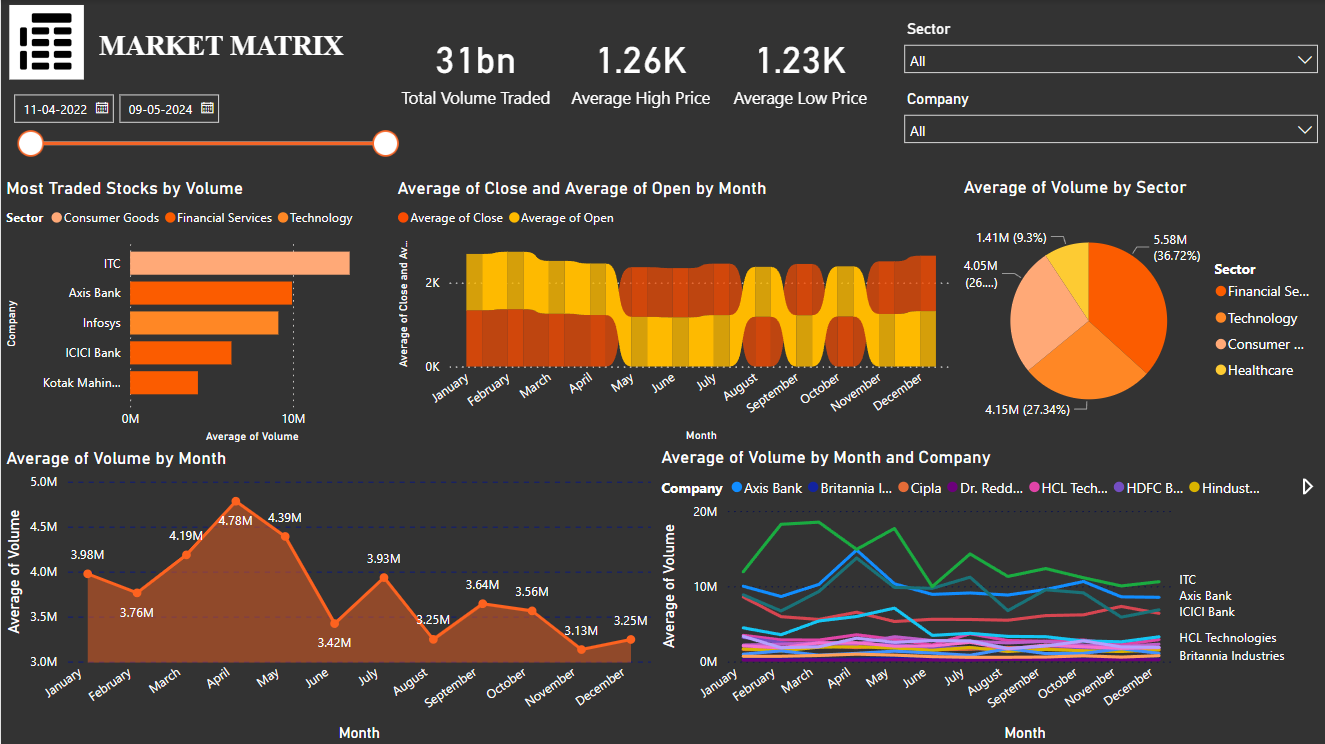

What the dashboard file says about the page in this screenshot:
{"tool":"powerbi","page":{"name":"Page 1","canvas":[1280,720],"ordinal":0},"visuals":[{"type":"ribbonChart","fields":{"Y":["Avg(stockmarket company_stock_data.Close)","Avg(stockmarket company_stock_data.Open)"],"Category":["stockmarket company_stock_data.Date.Variation.Date Hierarchy.Month"]},"box":[377.9,171.2,546.6,260.5],"z":0},{"type":"areaChart","fields":{"Y":["Avg(stockmarket company_stock_data.Volume)"],"Category":["stockmarket company_stock_data.Date.Variation.Date Hierarchy.Month"]},"box":[0,431.7,632.2,288.6],"z":1000},{"type":"lineChart","fields":{"Series":["stockmarket companies_data.Company"],"Category":["stockmarket company_stock_data.Date.Variation.Date Hierarchy.Month"],"Y":["Avg(stockmarket company_stock_data.Volume)"]},"box":[632.2,431.7,648.1,289.8],"z":2000},{"type":"barChart","title":"Most Traded Stocks by Volume","fields":{"Category":["stockmarket companies_data.Company"],"Series":["stockmarket companies_data.Sector"],"Y":["Avg(stockmarket company_stock_data.Volume)"]},"box":[0,171.3,377.6,260.6],"z":3000},{"type":"slicer","fields":{"Values":["stockmarket companies_data.Company"]},"box":[860.9,81.9,419.4,69.7],"z":4000},{"type":"slicer","fields":{"Values":["stockmarket company_stock_data.Date"]},"box":[0,76,392.1,89.3],"z":5000},{"type":"card","fields":{"Values":["stockmarket company_stock_data.Total Volume Traded"]},"box":[392.5,24.5,161.4,102.7],"z":6000},{"type":"card","fields":{"Values":["stockmarket company_stock_data.Average High Price"]},"box":[553.9,24.5,156.5,102.7],"z":7000},{"type":"card","fields":{"Values":["stockmarket company_stock_data.Average Low Price"]},"box":[710.5,24.5,150.4,102.7],"z":8000},{"type":"slicer","fields":{"Values":["stockmarket companies_data.Sector"]},"box":[860.9,14.7,419.4,72.1],"z":9000},{"type":"pieChart","fields":{"Y":["Avg(stockmarket company_stock_data.Volume)"],"Category":["stockmarket companies_data.Sector"]},"box":[924.5,170,355.8,260.5],"z":10000},{"type":"textbox","box":[76,24.1,323.3,57.9],"z":12000},{"type":"image","box":[0,0,88,81.9],"z":13000}]}

Visuals, with their boxes in screenshot pixels (x1, y1, x2, y2), scaled from the page's 1280x720 canvas onto the 1325x744 screenshot:
ribbonChart - Avg(stockmarket company_stock_data.Close) x Avg(stockmarket company_stock_data.Open): Rect(391, 177, 957, 446)
areaChart - Avg(stockmarket company_stock_data.Volume) x stockmarket company_stock_data.Date.Variation.Date Hierarchy.Month: Rect(0, 446, 654, 743)
lineChart - stockmarket companies_data.Company x stockmarket company_stock_data.Date.Variation.Date Hierarchy.Month: Rect(654, 446, 1324, 743)
"Most Traded Stocks by Volume" barChart: Rect(0, 177, 391, 446)
slicer - stockmarket companies_data.Company: Rect(891, 85, 1324, 157)
slicer - stockmarket company_stock_data.Date: Rect(0, 79, 406, 171)
card - stockmarket company_stock_data.Total Volume Traded: Rect(406, 25, 573, 131)
card - stockmarket company_stock_data.Average High Price: Rect(573, 25, 735, 131)
card - stockmarket company_stock_data.Average Low Price: Rect(735, 25, 891, 131)
slicer - stockmarket companies_data.Sector: Rect(891, 15, 1324, 90)
pieChart - Avg(stockmarket company_stock_data.Volume) x stockmarket companies_data.Sector: Rect(957, 176, 1324, 445)
textbox: Rect(79, 25, 413, 85)
image: Rect(0, 0, 91, 85)
